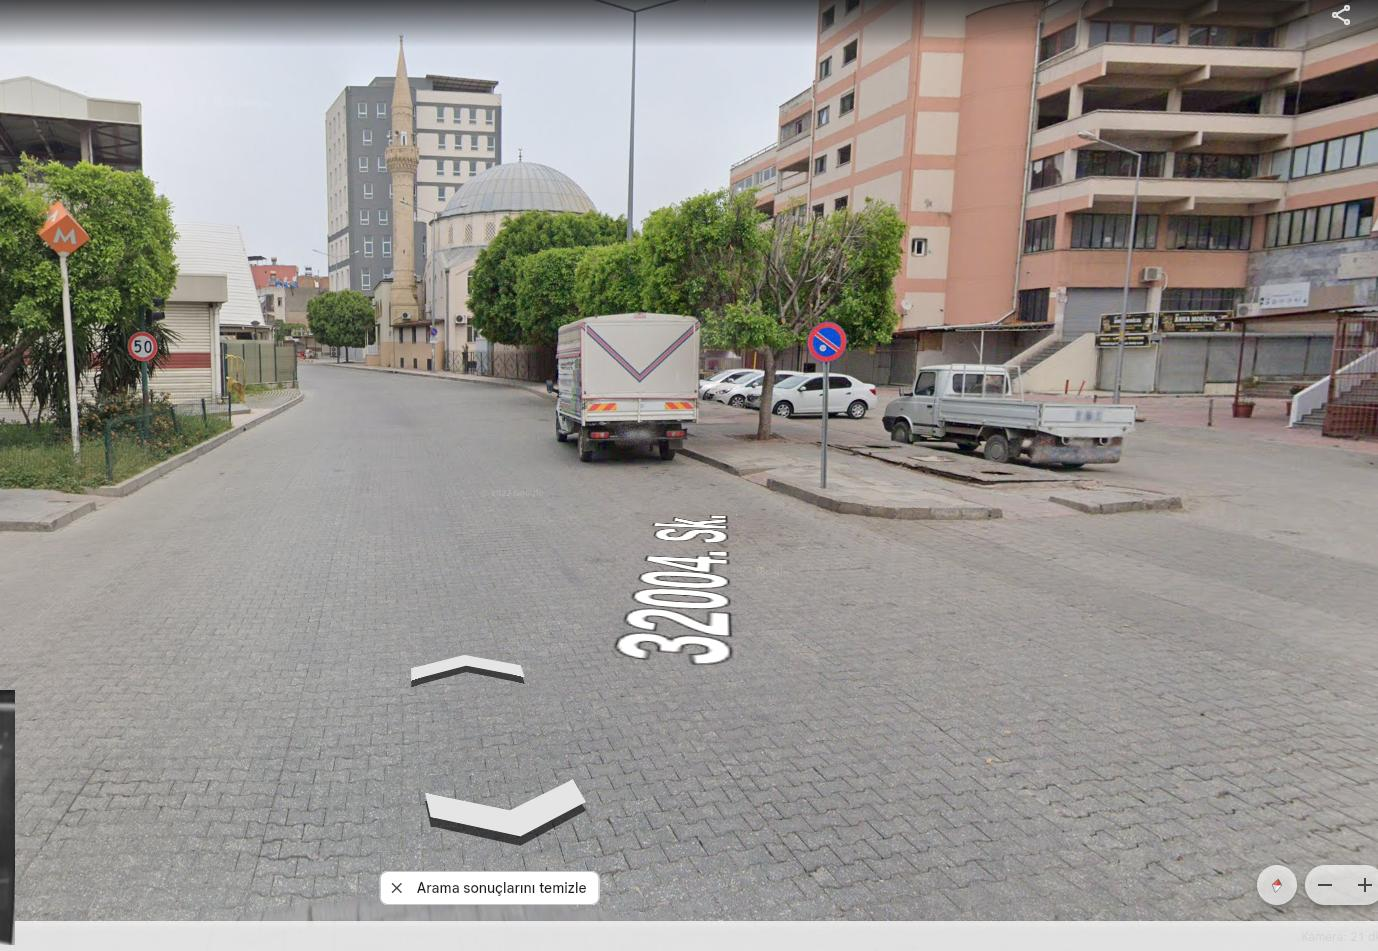nopark: (806, 323, 849, 363)
